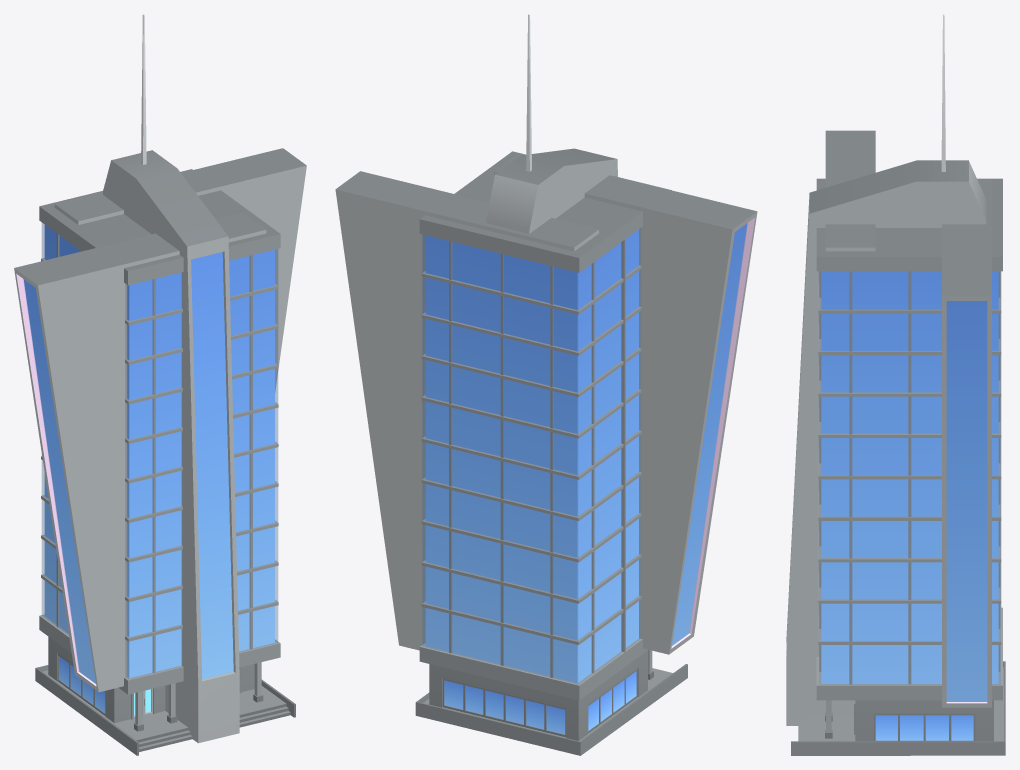
Rendered from Building_Business_04.glb.
3 views of the same model, side by side, from view 1: azimuth 30°, elevation 25°; view 2: azimuth 150°, elevation 25°; view 3: azimuth 270°, elevation 25° (orthographic). The views are drawn at different scales.
Parts seen in each view (by area): view 1: Building_Business_04; view 2: Building_Business_04; view 3: Building_Business_04.
Boxes of the visible parts, x1=… form: Building_Business_04: x1=14, y1=14, x2=306, y2=755; Building_Business_04: x1=335, y1=14, x2=757, y2=755; Building_Business_04: x1=786, y1=14, x2=1005, y2=755.
Bounding box in the file's own units: 26.98 × 53.13 × 15.07.
Materials: 2 (2 with a texture image).
